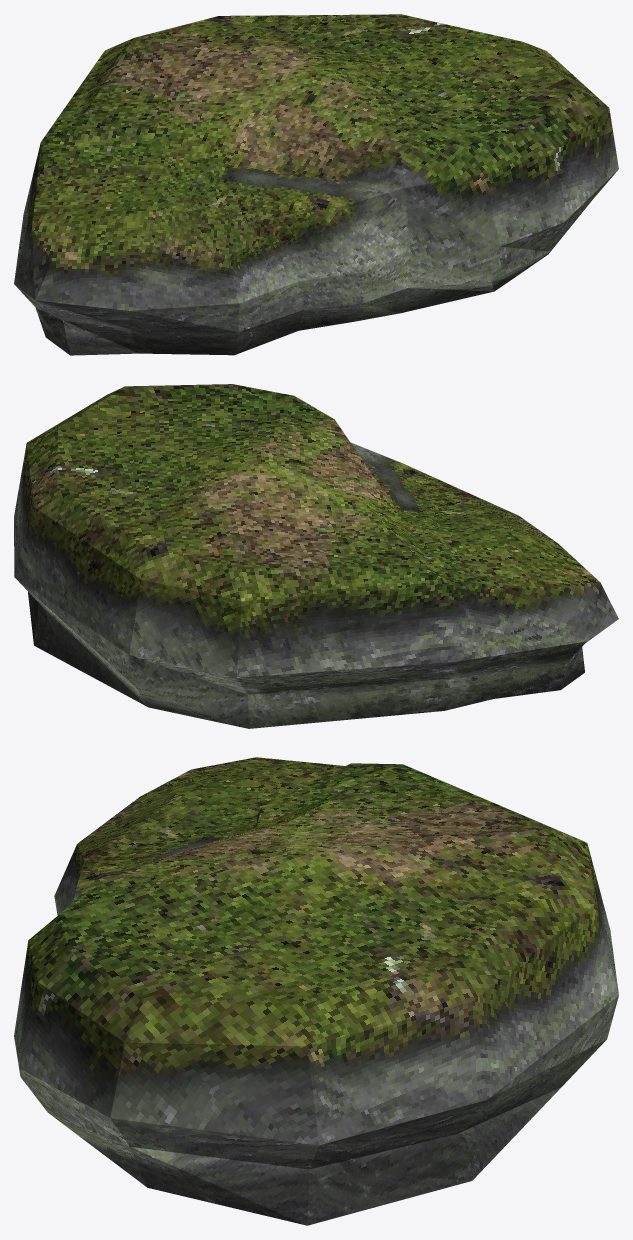
File: rock_01_large_mossy.glb
The picture shows the model from 3 angles, top to bottom: view 1: azimuth 30°, elevation 25°; view 2: azimuth 150°, elevation 25°; view 3: azimuth 270°, elevation 25°; orthographic projection. The views are drawn at different scales.
Parts seen in each view (by area): view 1: rock_01_large_mossy; view 2: rock_01_large_mossy; view 3: rock_01_large_mossy.
Boxes of the visible parts, x1,y1,x2,y2 form: rock_01_large_mossy: (14,14,618,355); rock_01_large_mossy: (14,384,618,728); rock_01_large_mossy: (14,757,618,1225).
Size of the model in its own units: 1.58 by 0.4783 by 1.16.
Materials: 1 (1 with a texture image).
